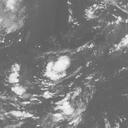cyclone: (42, 55, 71, 81)
